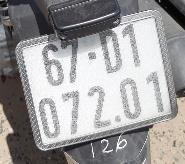0: (36, 97, 61, 138), (119, 76, 141, 119)
1: (123, 23, 145, 69), (145, 68, 166, 115)
2: (86, 84, 114, 129)
6: (38, 40, 68, 90)
7: (60, 87, 86, 138), (57, 35, 82, 87)
D: (98, 28, 123, 75)
